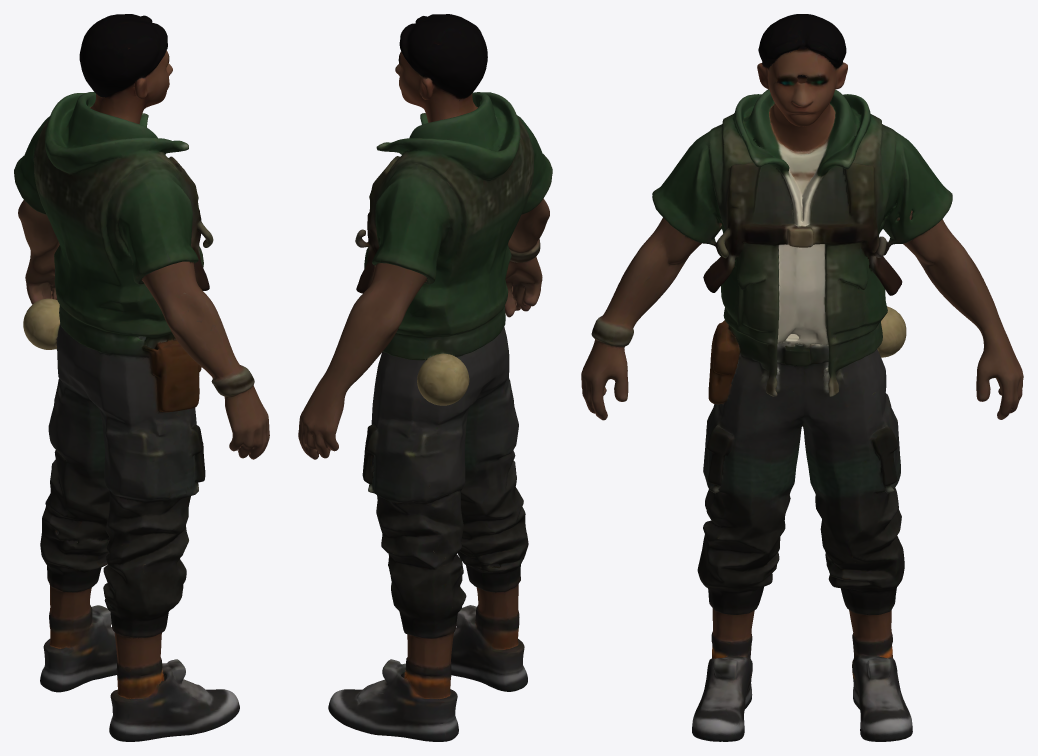
The model's file is runner.glb.
3 views of the same model, side by side, from view 1: azimuth 30°, elevation 25°; view 2: azimuth 150°, elevation 25°; view 3: azimuth 270°, elevation 25° (orthographic). The views are drawn at different scales.
Parts seen in each view (by area): view 1: world; view 2: world; view 3: world.
Boxes of the visible parts, x1=… form: world: x1=14, y1=14, x2=269, y2=741; world: x1=298, y1=14, x2=552, y2=741; world: x1=581, y1=14, x2=1023, y2=741.
Size of the model in its own units: 0.2194 by 1 by 0.5746.
1 material, 1 textured.
